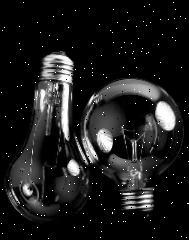lightbulb: (2, 50, 93, 224), (79, 75, 184, 216), (154, 101, 176, 131), (96, 128, 112, 153), (66, 159, 79, 176), (22, 182, 32, 196)
